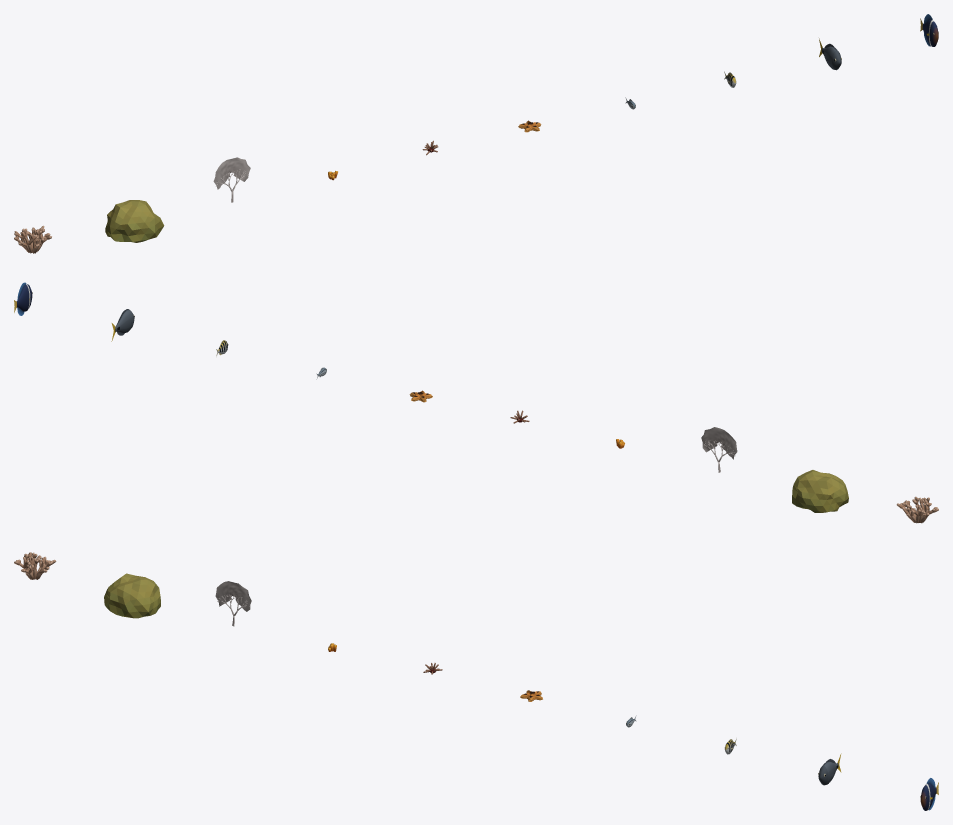
Rendered from reef.glb.
3 renders of one model, top to bottom at view 1: azimuth 30°, elevation 25°; view 2: azimuth 150°, elevation 25°; view 3: azimuth 330°, elevation 25°, orthographic.
Visible parts, largest first — view 1: coral_lobe, sea_fan, coral_cauliflower; view 2: coral_lobe, sea_fan, coral_cauliflower; view 3: coral_lobe, sea_fan, coral_cauliflower.
Part boxes in pixels (box(x1,y1,x2,y2)): coral_lobe: box(105, 200, 164, 242); sea_fan: box(213, 157, 250, 202); coral_cauliflower: box(14, 225, 51, 253); coral_lobe: box(792, 470, 848, 512); sea_fan: box(701, 427, 737, 472); coral_cauliflower: box(896, 496, 938, 523); coral_lobe: box(104, 573, 160, 618); sea_fan: box(215, 581, 251, 626); coral_cauliflower: box(14, 552, 56, 579).
Bounding box in the file's own units: 1.84 × 0.1107 × 0.0933.
